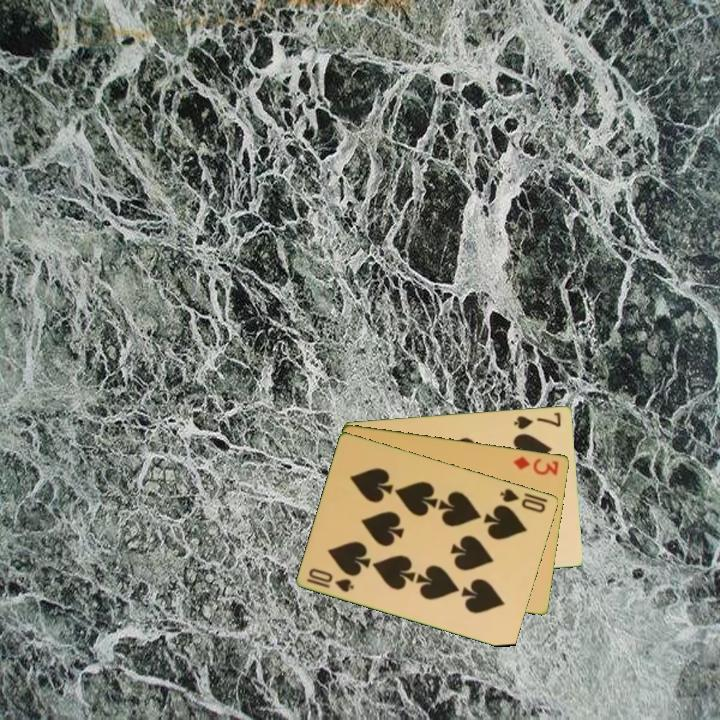10s: (303, 564, 357, 595), (497, 485, 549, 515)
3d: (510, 453, 562, 478)
7s: (510, 409, 564, 432)
